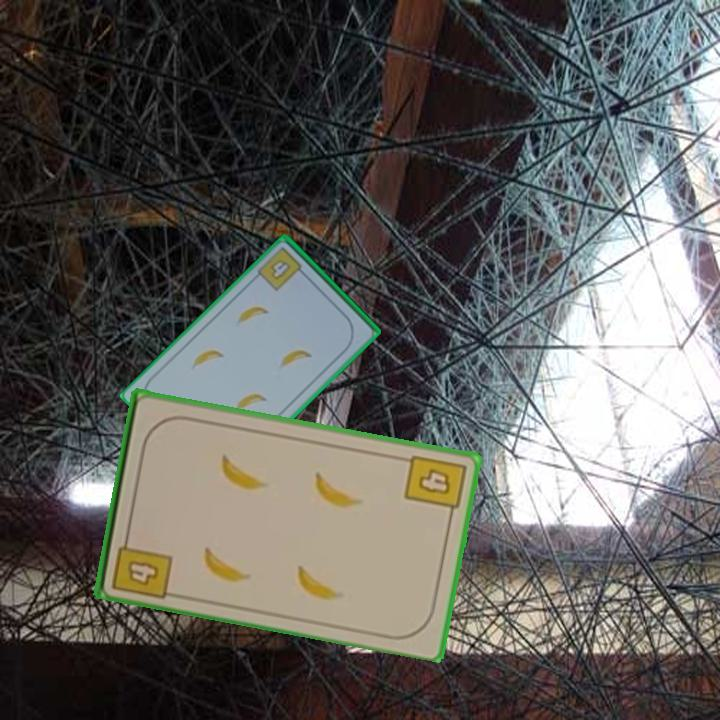4b: (108, 528, 175, 601), (401, 451, 469, 521), (256, 243, 310, 294)
